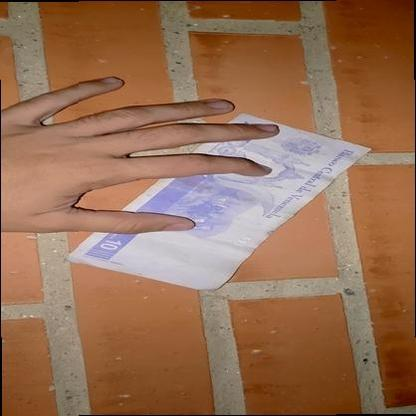ten-front-vef: (68, 113, 372, 292)
